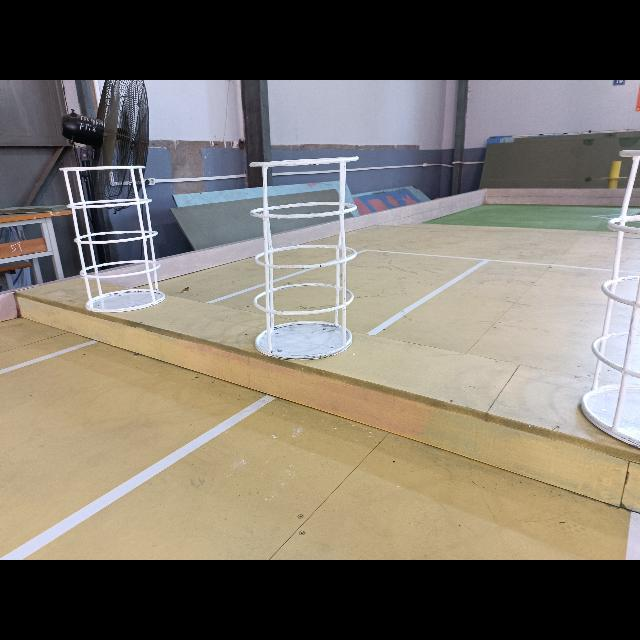S: (244, 153, 362, 363), (576, 147, 640, 447), (58, 164, 167, 315)
